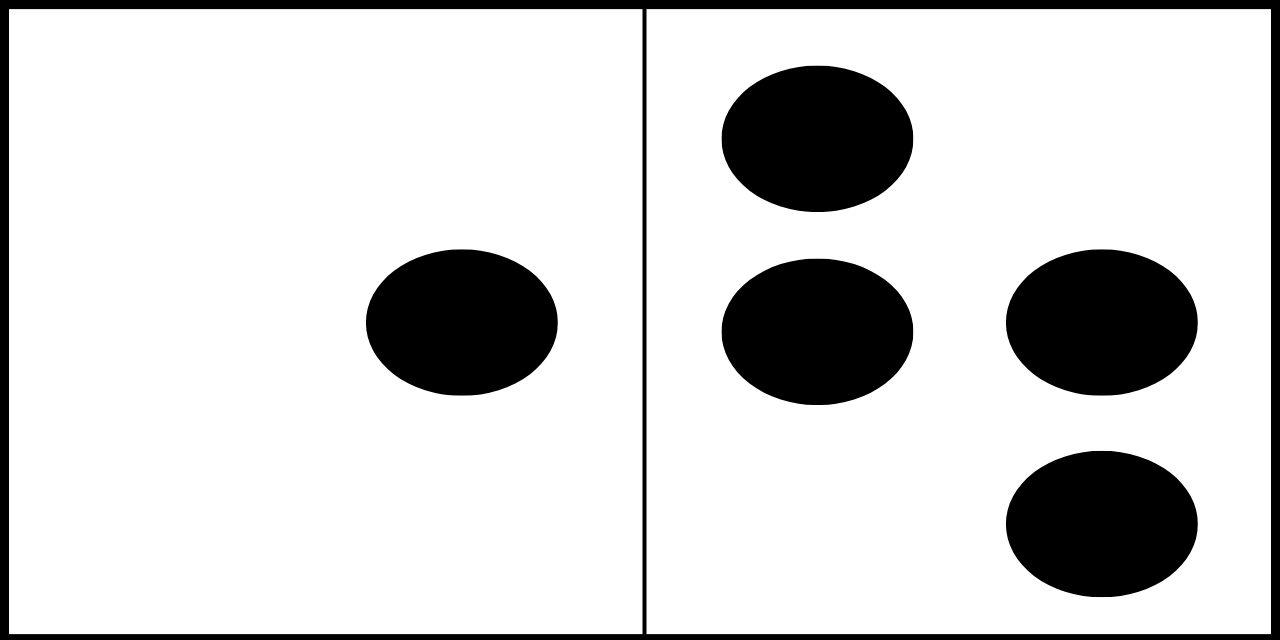dot_5: (87, 66, 560, 598)
two_cell_non_alphabet_tungkol: (718, 66, 1207, 601)
